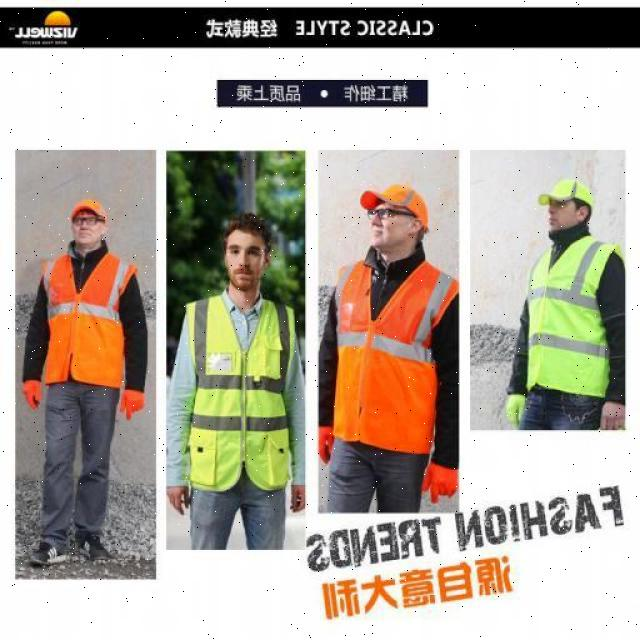Person: (313, 177, 459, 506), (20, 197, 147, 555), (161, 227, 301, 545), (506, 173, 627, 431)
Vest: (334, 260, 447, 454), (190, 292, 298, 488), (526, 242, 611, 401), (40, 253, 127, 394)
